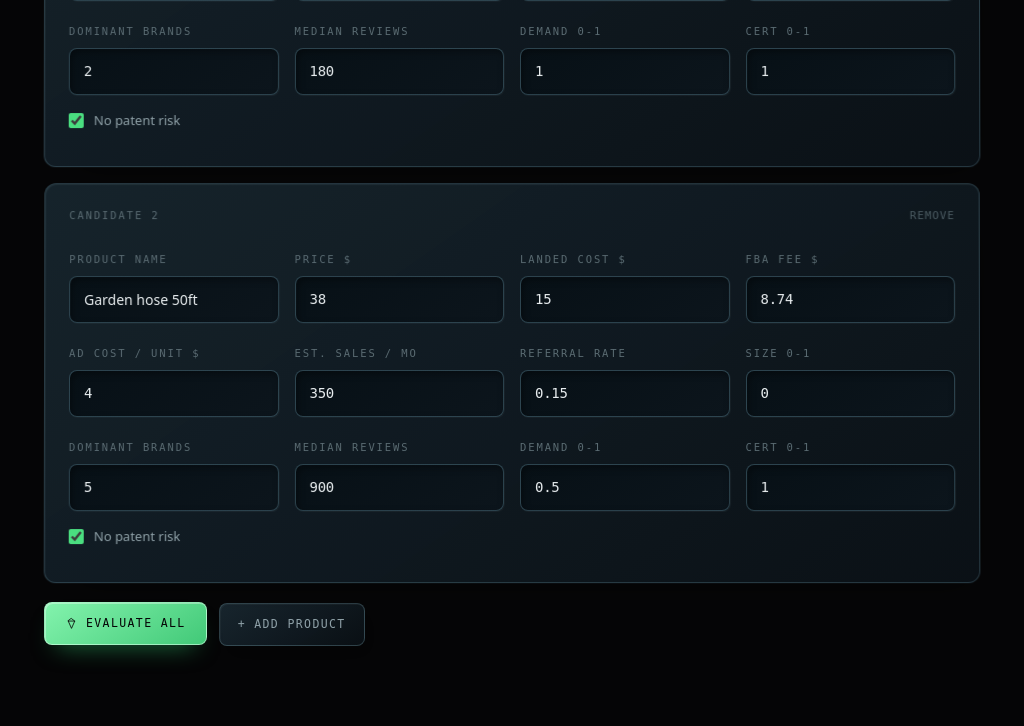
shows the server's own refusal instead of a status code
The image size is (1024, 726).
(page scrolled)
Click the button "EVALUATE ALL": (125,624) [44,602,207,645]
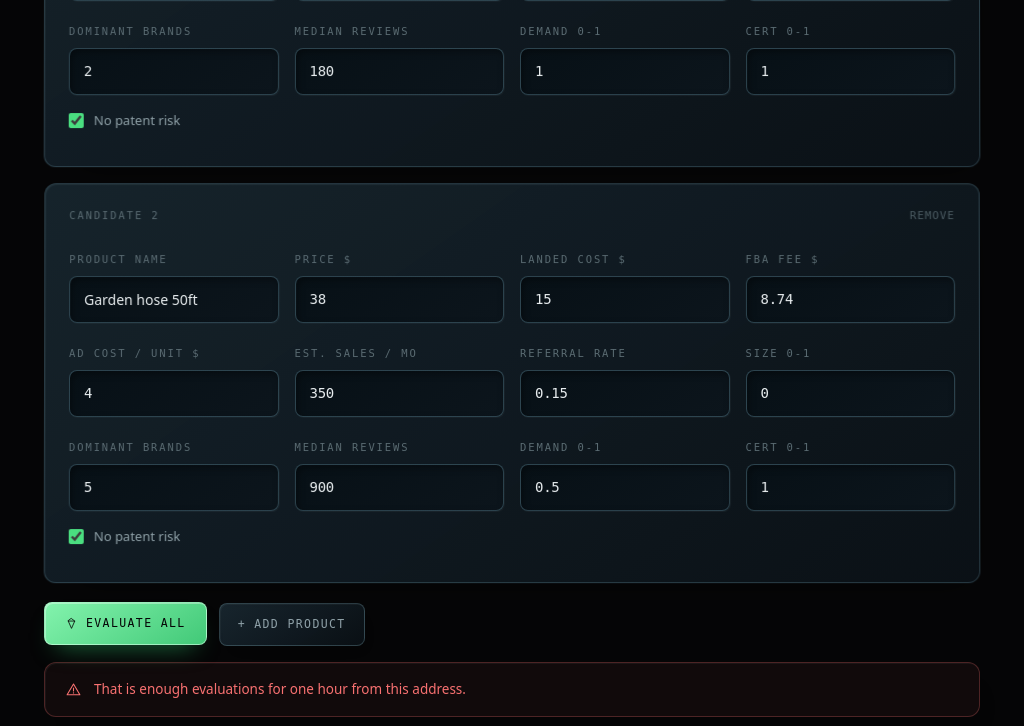
Result: the text "That is enough evaluations for one hour from this address." is shown at [44,662,980,717]
